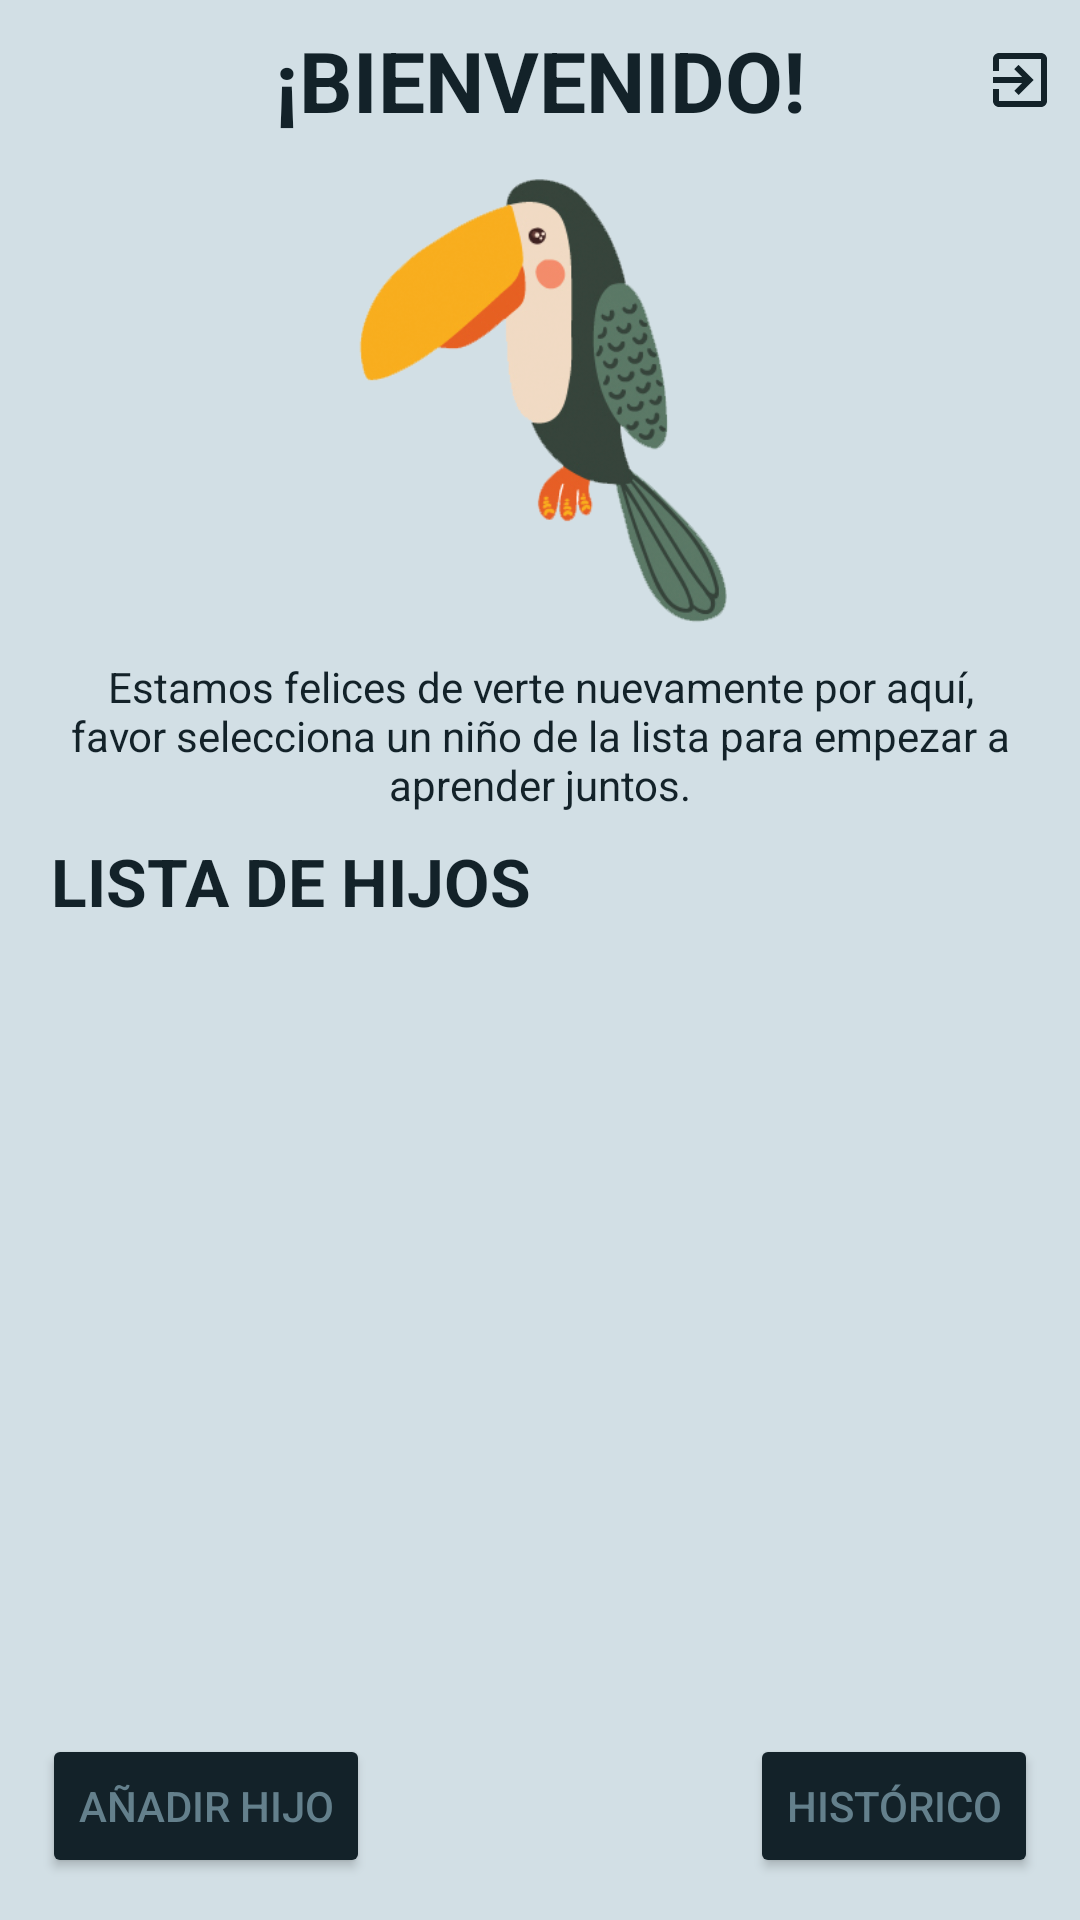

Screen size 1080x1920. Icon name, then its box in pixels as (x1, y1, x2, y2):
exit to app: (993, 53, 1047, 107)
